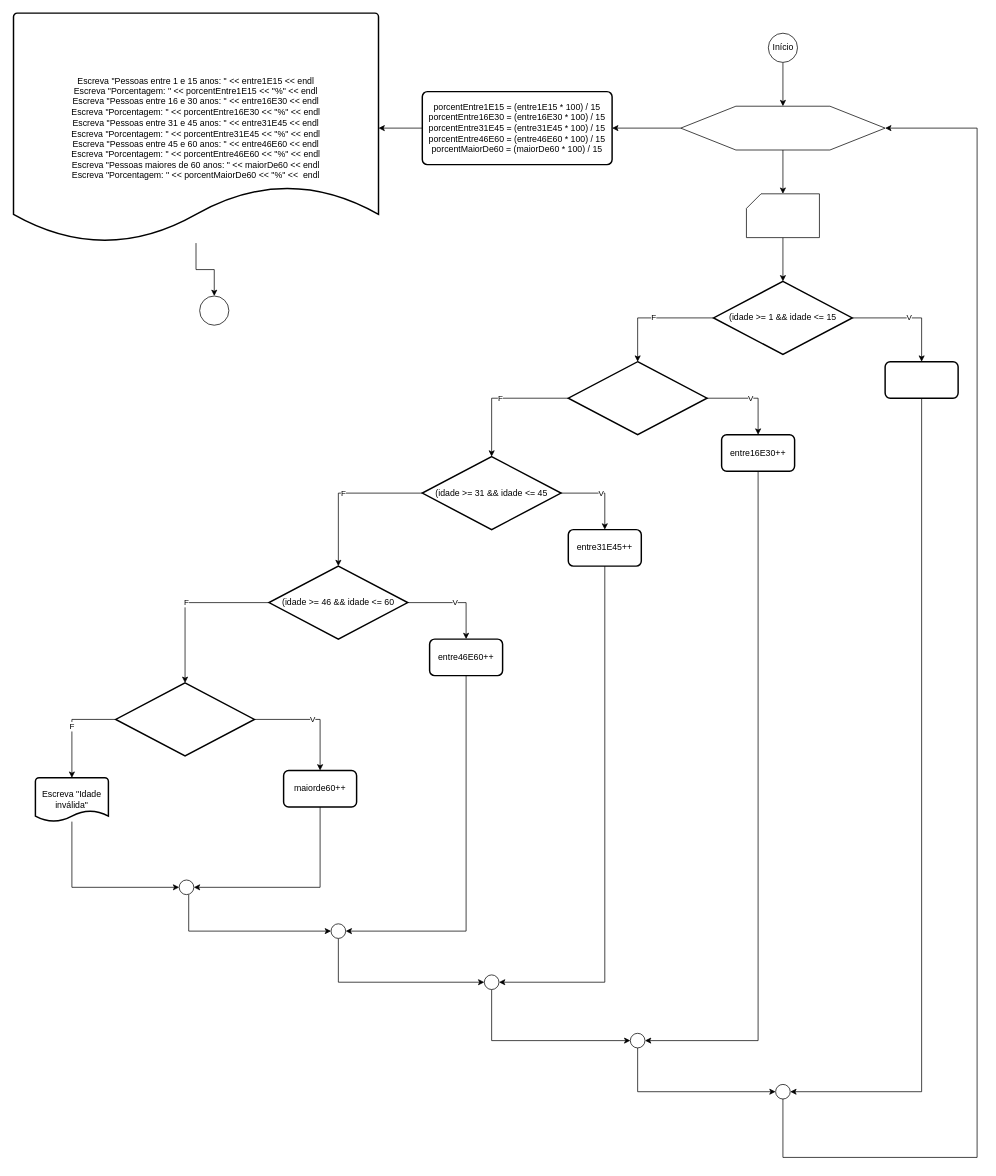
Some shapes in this 996 by 1176 pixel diagram are drawn without their labels. Here are the shapes that lost their labels. From the top down, the centre of each, then its label:
At point 782,127: "Para pessoas = 0 ; pessoas < 15 ; pessoas++".
At point 782,215: "Leia idade".
At point 214,310: "Fim".
At point 637,398: "(idade >= 16 && idade <= 30".
At point 921,380: "entre1E15++".
At point 185,719: "(idade >= 61)".
